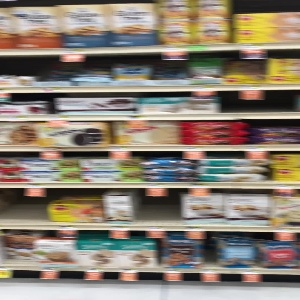void: (220, 89, 300, 117), (1, 186, 50, 226), (135, 188, 181, 228)
